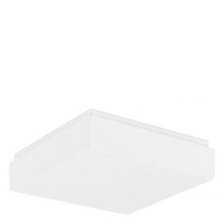foam_box: (3, 105, 218, 218)
